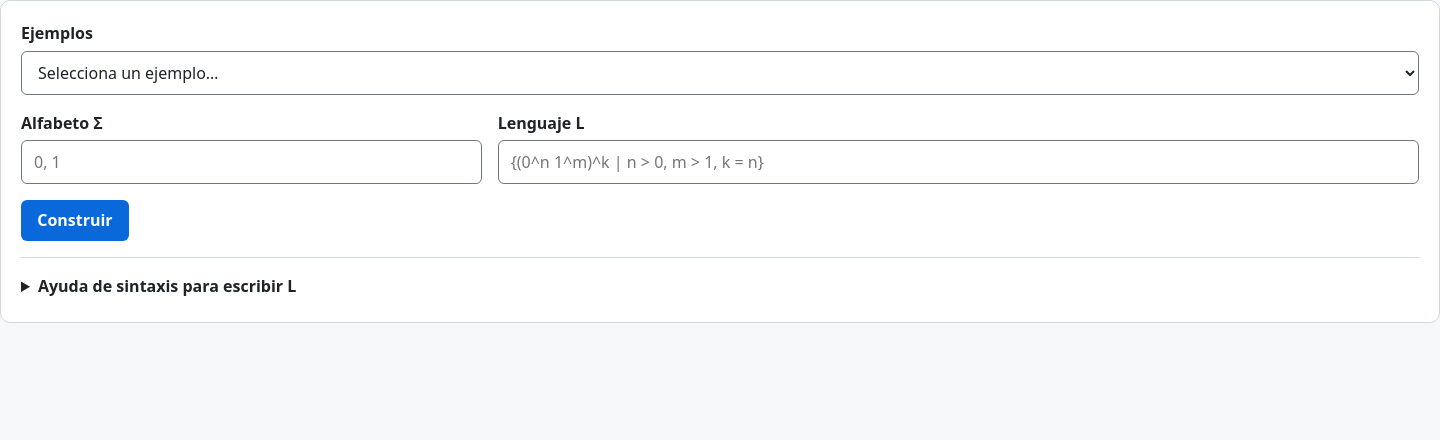
Test: InputPanel › llena los campos desde un ejemplo y muestra el lenguaje normalizado al construir
Select "(0ⁿ1ᵐ)ᵏ con k = n (ejercicio de clase)" in the dropdown labelled "Ejemplos" at [720, 73], box [21, 51, 1419, 95]
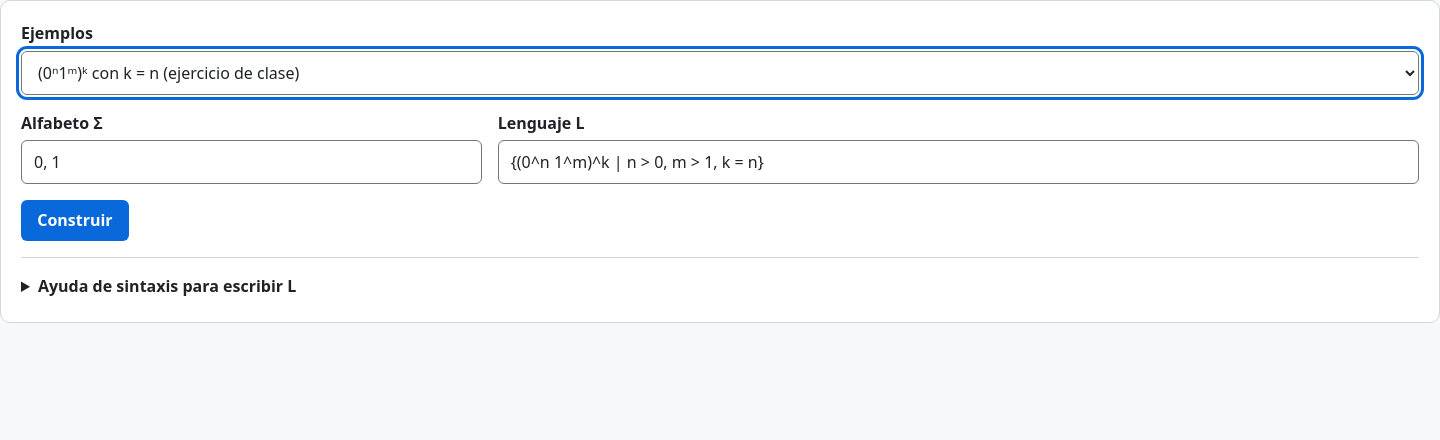
expect the field labelled "Alfabeto Σ" holds "0, 1": met, box [21, 140, 482, 184]
expect the field labelled "Lenguaje L" holds "{(0^n 1^m)^k | n > 0, m > 1, k = n}": met, box [498, 140, 1419, 184]
Click the button "Construir" at [75, 220], box [21, 200, 129, 241]
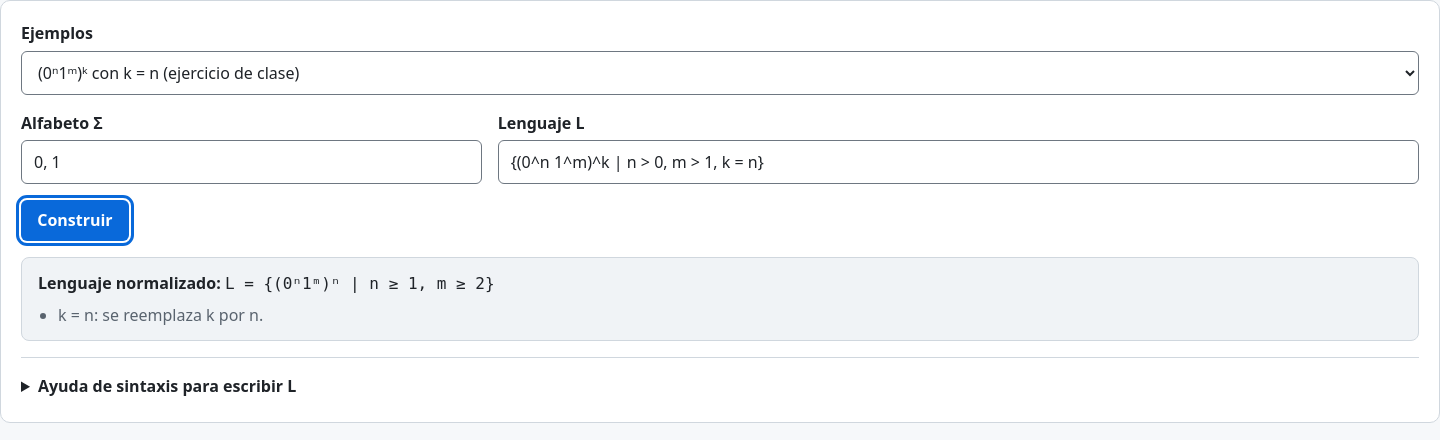
expect the text "L = {(0ⁿ1ᵐ)ⁿ | n ≥ 1, m ≥ 2}" is shown: met, box [225, 274, 495, 293]
Type ", 2" into the field labelled "Alfabeto Σ" at [251, 162], box [21, 140, 482, 184]
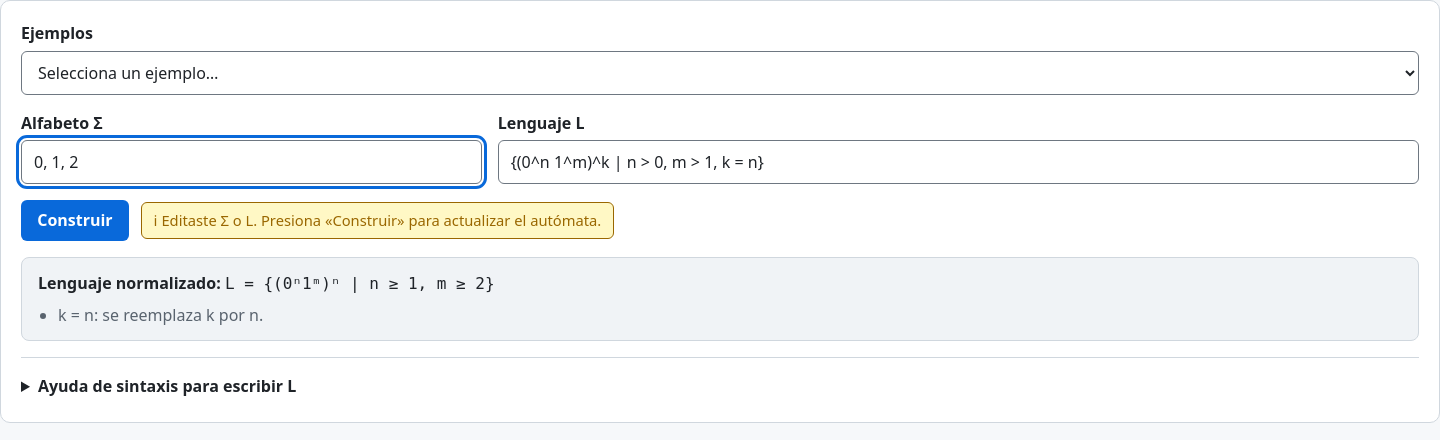
expect the message shows "actualizar": met, box [161, 210, 601, 230]
